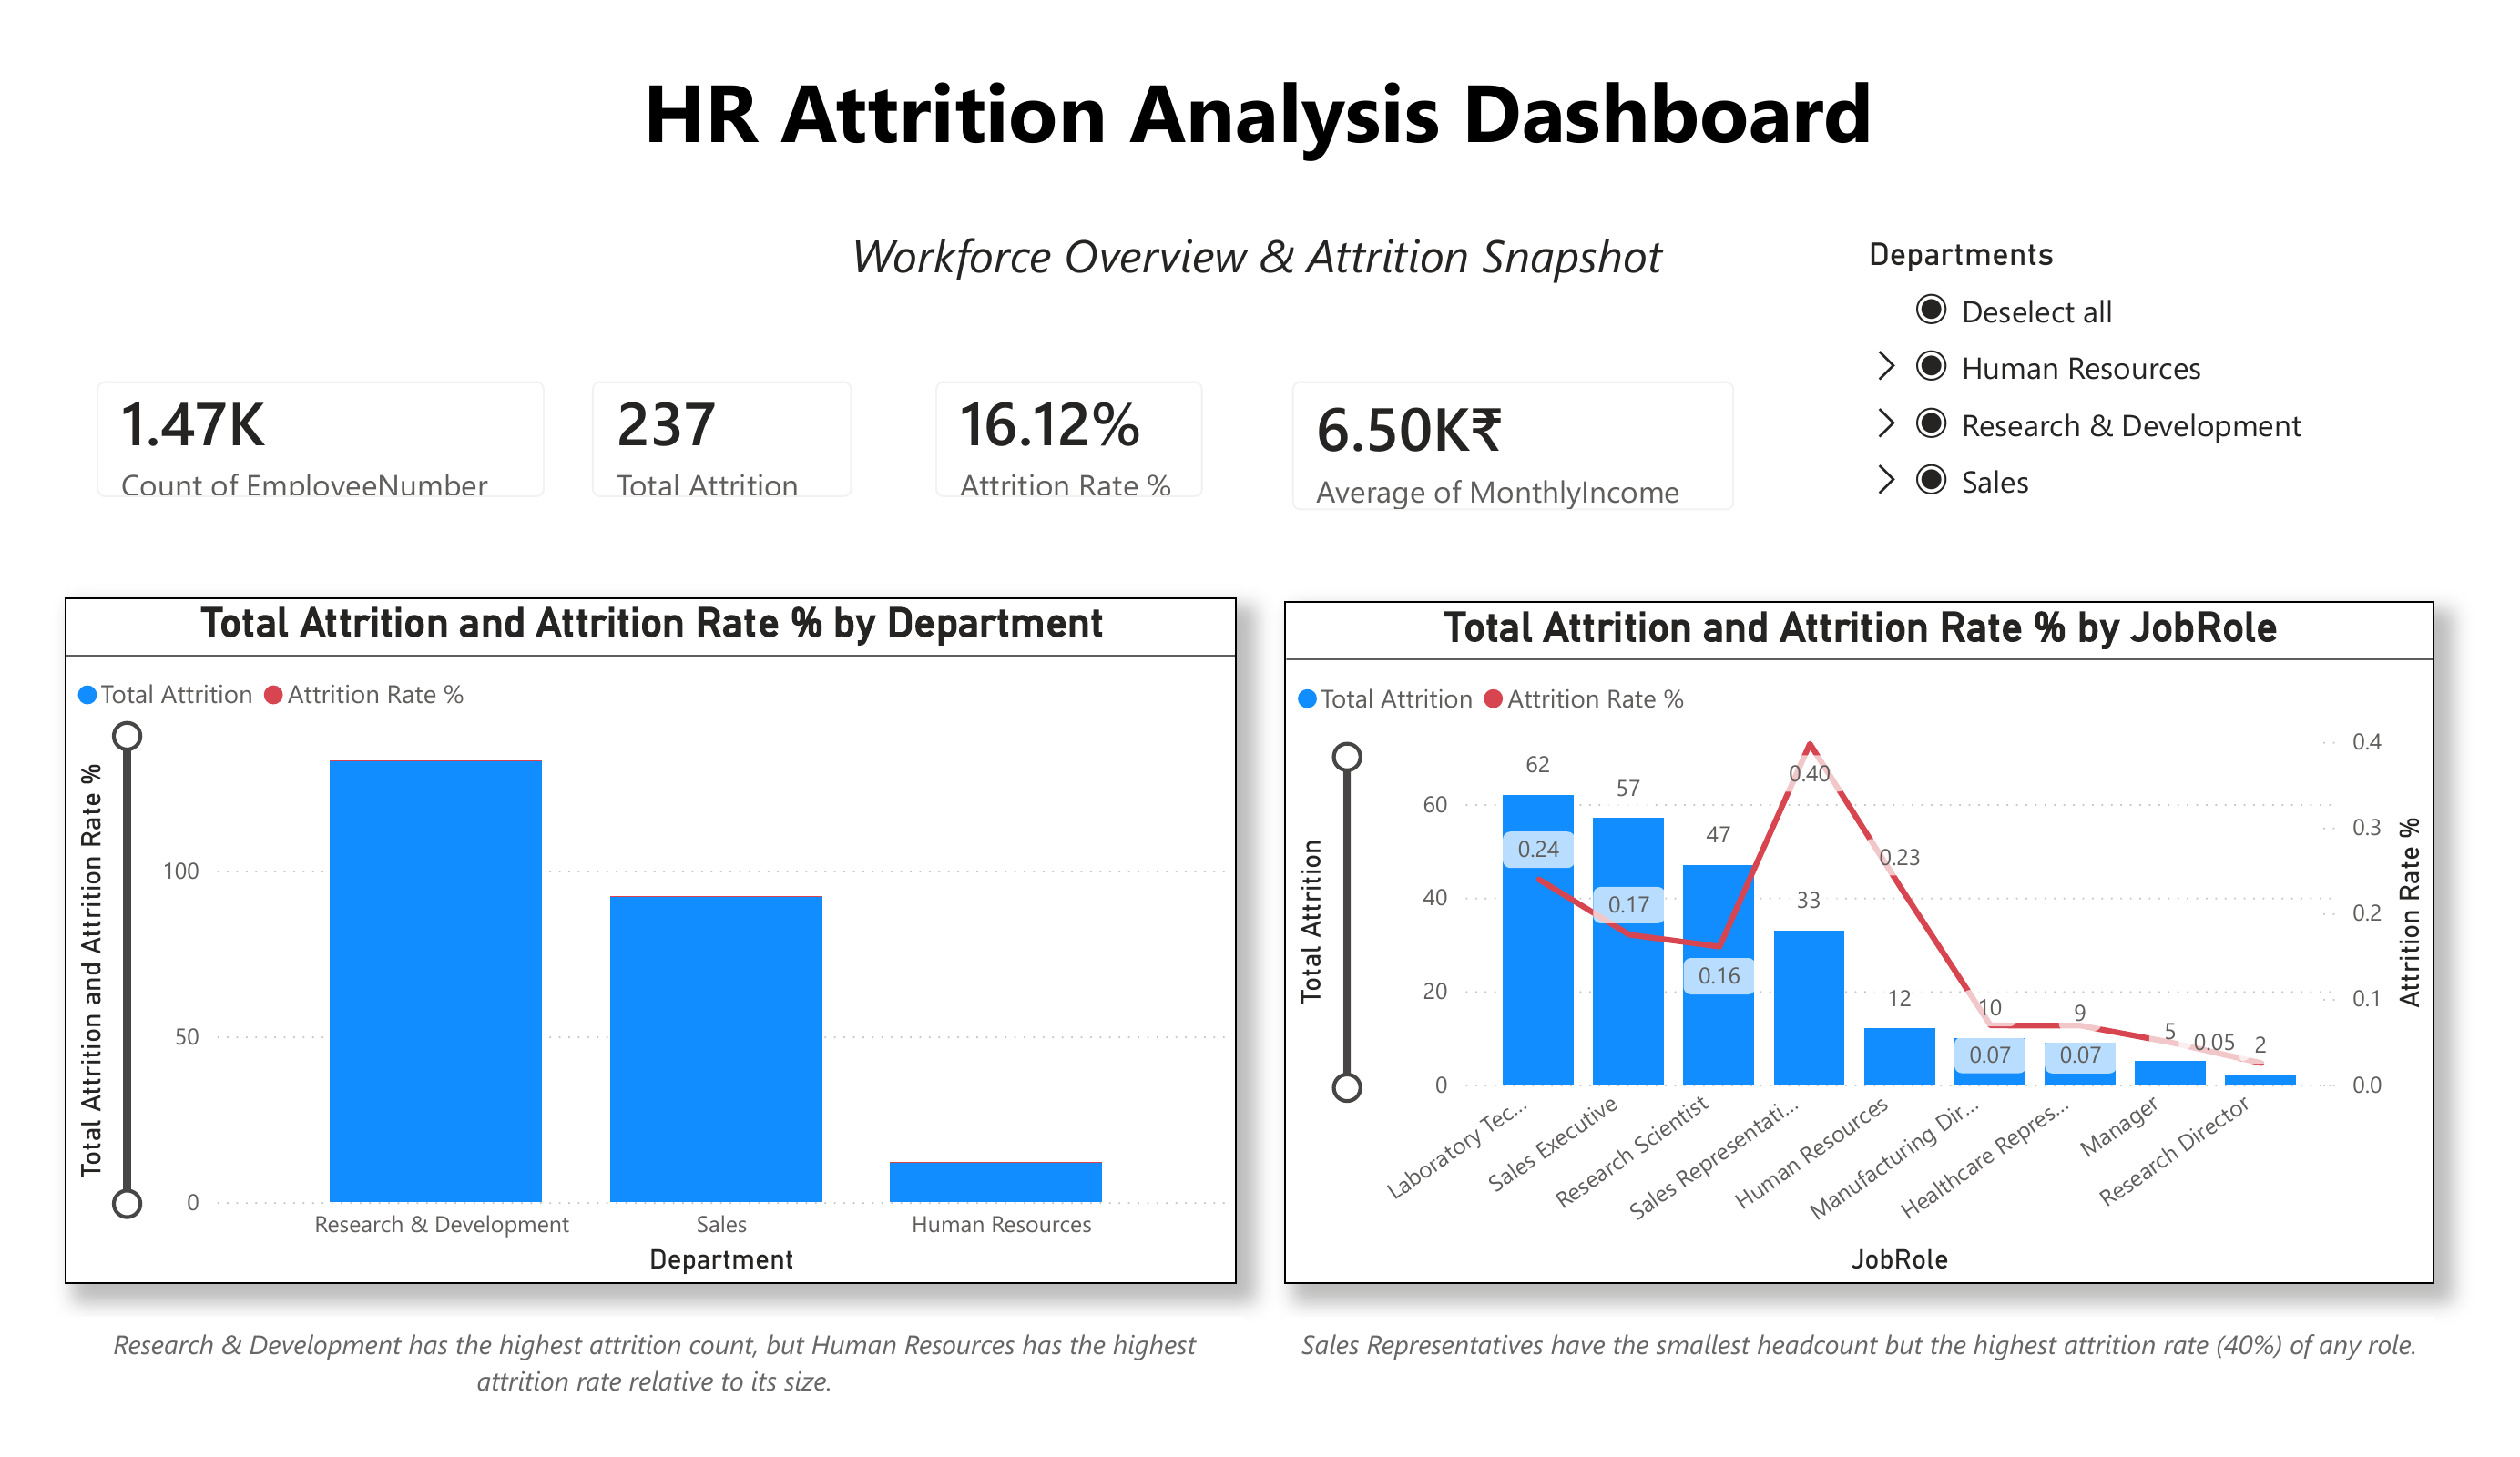

This screenshot's page, from the dashboard's own definition file:
{"tool":"powerbi","page":{"name":"Attrition Overview","canvas":[1280,720],"ordinal":0},"visuals":[{"type":"cardVisual","fields":{"Data":["CountNonNull(hr - Copy.EmployeeNumber)"]},"box":[10.2,159.5,270.7,95.1],"z":0},{"type":"cardVisual","fields":{"Data":["hr - Copy.Total Attrition"]},"box":[270.7,159.5,171.2,95.1],"z":1000},{"type":"cardVisual","fields":{"Data":["hr - Copy.Attrition Rate %"]},"box":[452.2,159.5,175.6,95.1],"z":2000},{"type":"cardVisual","fields":{"Data":["Avg(hr - Copy.MonthlyIncome)"]},"box":[639.5,159.5,267.8,102.4],"z":3000},{"type":"columnChart","fields":{"Category":["hr - Copy.Department"],"Y":["hr - Copy.Total Attrition","hr - Copy.Attrition Rate %"]},"box":[10.2,291.2,617.6,361.5],"z":4000},{"type":"lineStackedColumnComboChart","fields":{"Category":["hr - Copy.JobRole"],"Y":["hr - Copy.Total Attrition"],"Y2":["hr - Copy.Attrition Rate %"]},"box":[652.7,292.7,605.9,360],"z":5000},{"type":"listSlicer","title":"Departments","fields":{"Values":["hr - Copy.Department","hr - Copy.Gender","hr - Copy.Age"]},"box":[955.6,99.5,263.4,155.1],"z":6000},{"type":"textbox","box":[276.6,0,725.9,67.3],"z":7000},{"type":"textbox","box":[361.5,89.3,554.6,46.8],"z":8000},{"type":"textbox","box":[10.2,670.2,622,49.8],"z":9000},{"type":"textbox","box":[652.7,670.2,605.9,42.4],"z":10000}]}

Visuals, with their boxes on the page's 1280x720 design canvas (x1, y1, x2, y2). These are canvas units, not pixel positions in the 2520x1457 screenshot, which may show the page scaled, cropped or inside an application window:
cardVisual - CountNonNull(hr - Copy.EmployeeNumber): [left=10, top=160, right=281, bottom=255]
cardVisual - hr - Copy.Total Attrition: [left=271, top=160, right=442, bottom=255]
cardVisual - hr - Copy.Attrition Rate %: [left=452, top=160, right=628, bottom=255]
cardVisual - Avg(hr - Copy.MonthlyIncome): [left=640, top=160, right=907, bottom=262]
columnChart - hr - Copy.Department x hr - Copy.Total Attrition: [left=10, top=291, right=628, bottom=653]
lineStackedColumnComboChart - hr - Copy.JobRole x hr - Copy.Total Attrition: [left=653, top=293, right=1259, bottom=653]
"Departments" listSlicer: [left=956, top=100, right=1219, bottom=255]
textbox: [left=277, top=0, right=1002, bottom=67]
textbox: [left=362, top=89, right=916, bottom=136]
textbox: [left=10, top=670, right=632, bottom=720]
textbox: [left=653, top=670, right=1259, bottom=713]
